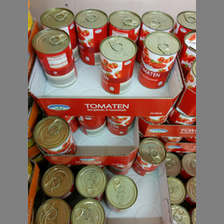tomato_sauce: (31, 28, 78, 90), (98, 34, 137, 96), (139, 32, 180, 89), (74, 8, 108, 65), (32, 116, 76, 153), (131, 138, 165, 178)
